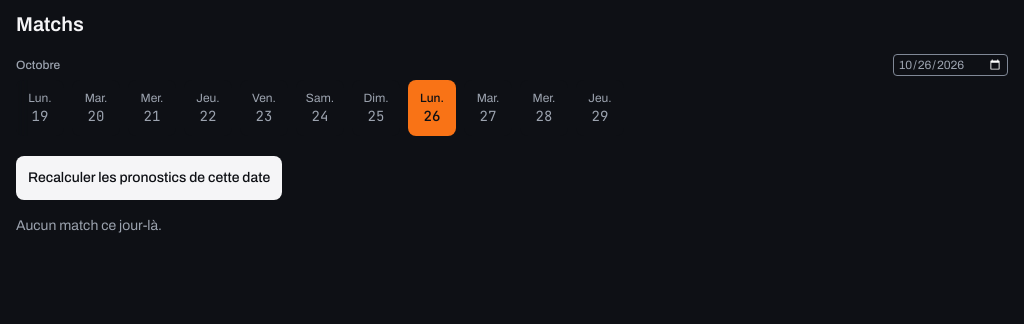
recalcul : matchs déjà commencés ignorés › met au pluriel et nomme chaque match quand il y en a plusieurs
Click the button "Recalculer les pronostics de cette date" at (149, 178), box [16,156,282,200]
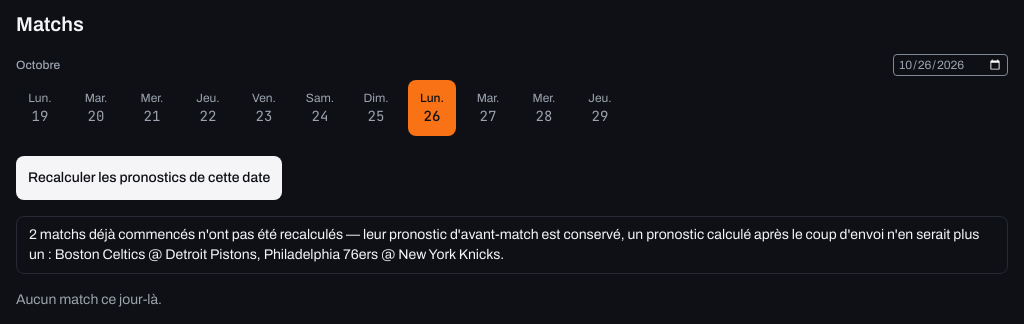
Expected: the message with test id "skipped-started" shows "2 matchs déjà commencés n'ont pas été recalculés", [29,227,980,262]
Expected: the message with test id "skipped-started" shows "Philadelphia 76ers @ New York Knicks", [29,227,980,262]
